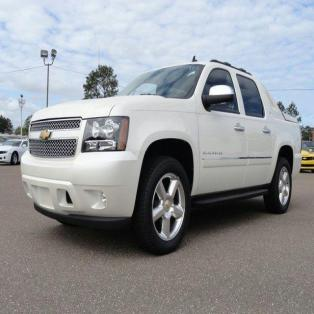Auto: (15, 56, 300, 258)
